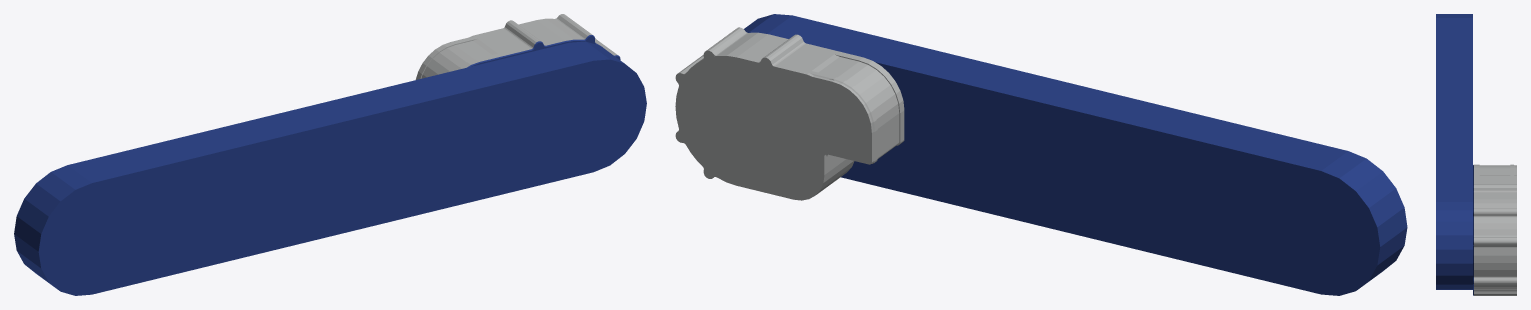
The model's file is arm_pan1_link.DAE.
3 renders of one model, left to right at view 1: azimuth 30°, elevation 25°; view 2: azimuth 150°, elevation 25°; view 3: azimuth 270°, elevation 25°, orthographic. The views are drawn at different scales.
Parts seen in each view (by area): view 1: arm_pan1_link; view 2: arm_pan1_link; view 3: arm_pan1_link.
Part boxes in pixels (x1,y1,x2,y2): arm_pan1_link: (14, 14, 646, 295); arm_pan1_link: (675, 14, 1407, 295); arm_pan1_link: (1436, 14, 1516, 295).
Bounding box in the file's own units: 0.3625 × 0.0554 × 0.0695.
